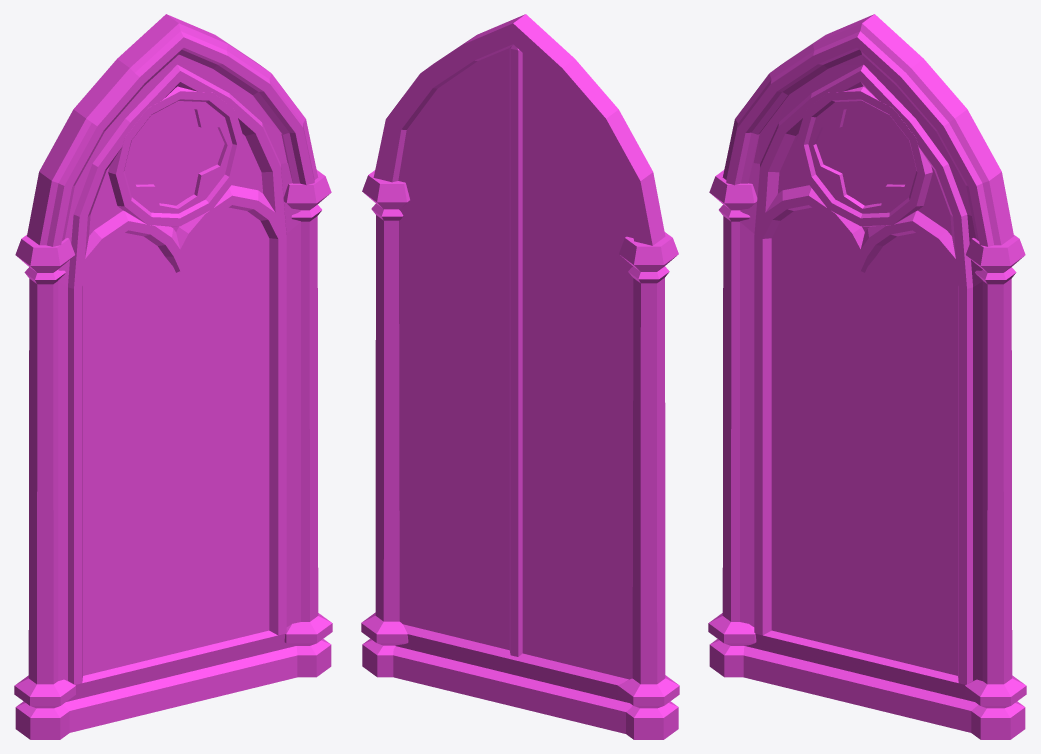
Rendered from SM_Mirror_Wall_A_Fantasy.fbx.
3 renders of one model, left to right at view 1: azimuth 30°, elevation 25°; view 2: azimuth 150°, elevation 25°; view 3: azimuth 330°, elevation 25°, orthographic.
Parts seen in each view (by area): view 1: SM_Mirror_Wall_A_Fantasy; view 2: SM_Mirror_Wall_A_Fantasy; view 3: SM_Mirror_Wall_A_Fantasy.
Boxes of the visible parts, x1=… form: SM_Mirror_Wall_A_Fantasy: x1=14, y1=14, x2=332, y2=739; SM_Mirror_Wall_A_Fantasy: x1=361, y1=14, x2=679, y2=739; SM_Mirror_Wall_A_Fantasy: x1=708, y1=14, x2=1026, y2=739.
Size of the model in its own units: 1.21 by 2.59 by 0.2131.
